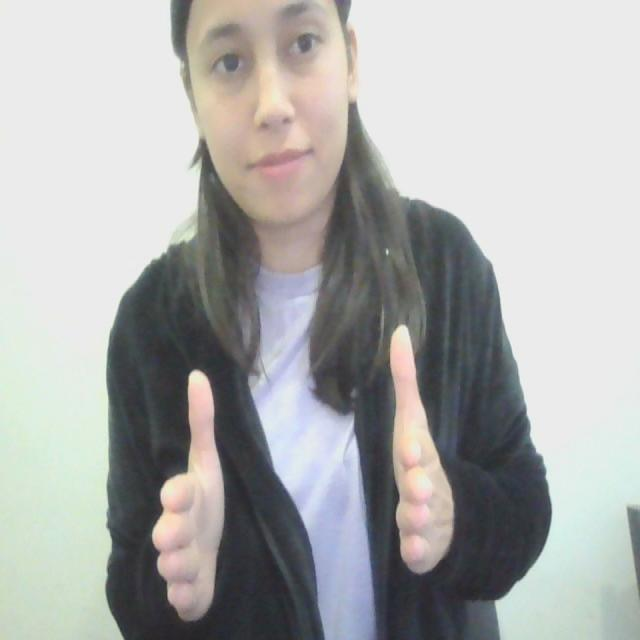Nasil: (131, 320, 489, 630)
